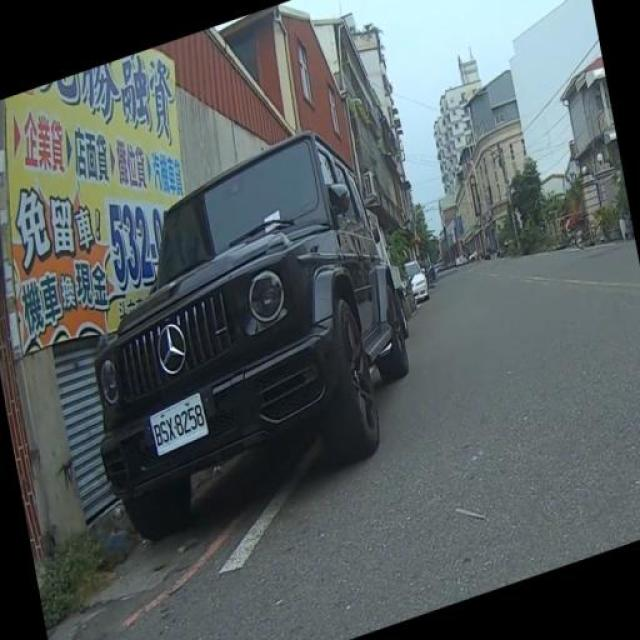Legalparking: (66, 72, 453, 570)
